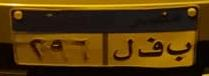2: (29, 38, 46, 61)
6: (69, 37, 92, 64)
9: (49, 38, 68, 64)
baa: (166, 41, 192, 63)
faa: (136, 34, 165, 59)
laam: (110, 36, 134, 63)
